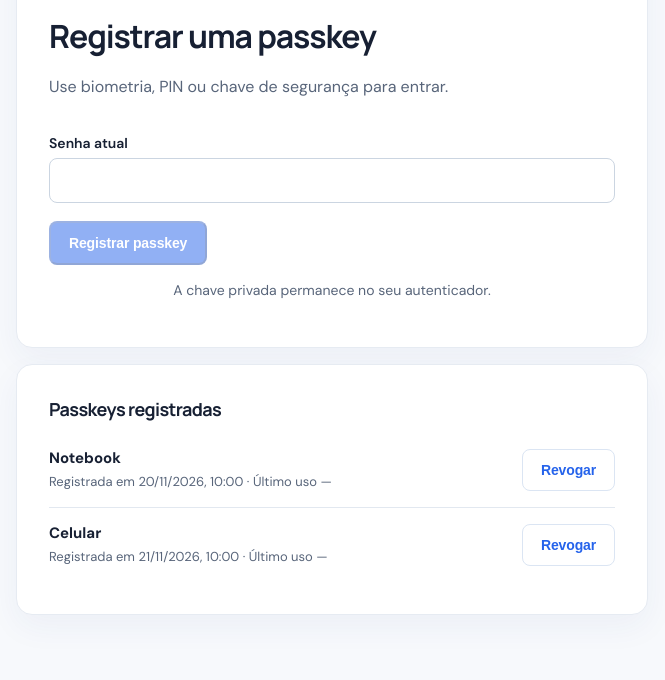
Test: lists passkeys and revokes only after confirmation
The width and height of the screenshot is (665, 680).
(page scrolled)
Check: the text "Notebook" is shown, box [49, 448, 121, 468]
What coordinates should you click on to do the following:
click the button "Revogar" in the row of "Notebook"
I would click on:
 (568, 470)
Its box is [522, 449, 615, 491].
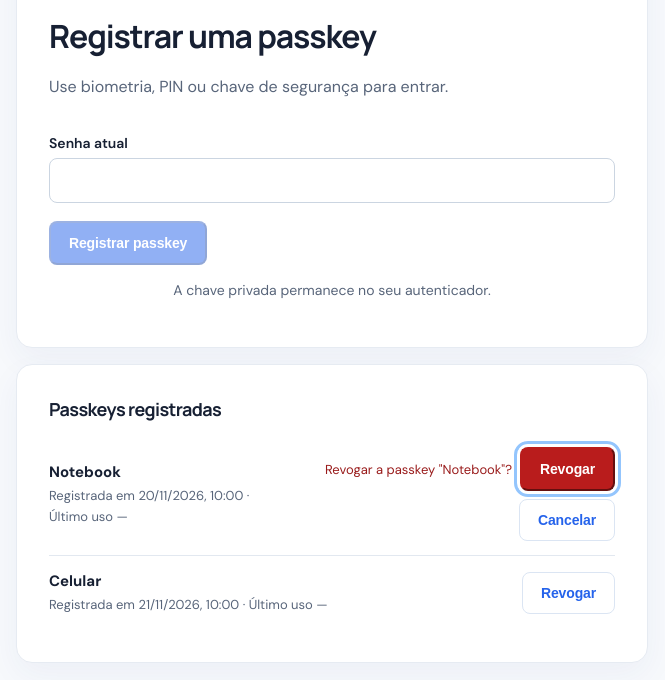
Check: the text "Revogar a passkey \"Notebook\"?" is shown, box [325, 461, 512, 478]
What coordinates should you click on to do the following:
click the button "Cancelar"
I would click on:
 (567, 520)
Its box is [519, 499, 615, 541].
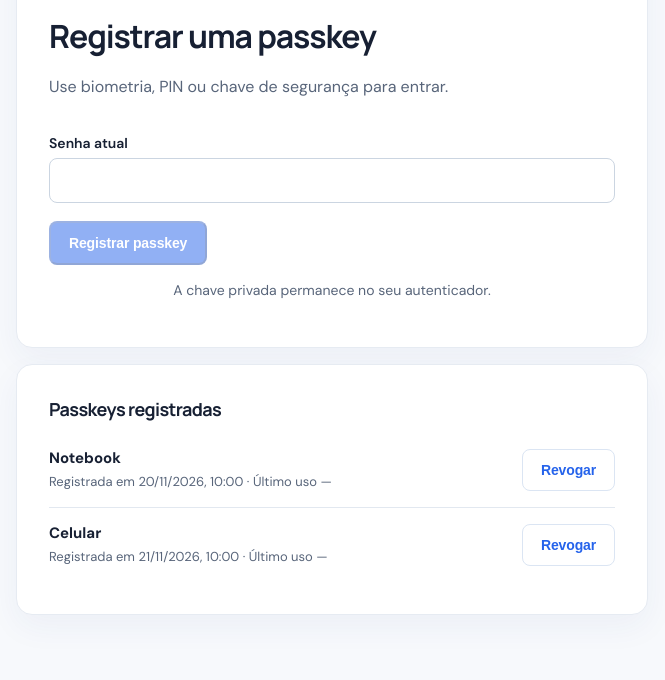
What coordinates should you click on to do the following:
click the button "Revogar" in the row of "Notebook"
I would click on:
 (568, 470)
Its box is [522, 449, 615, 491].
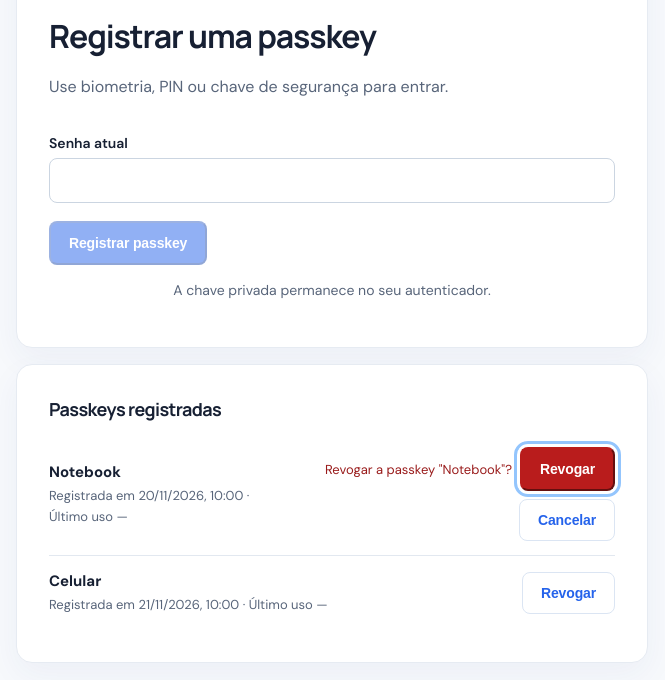
What coordinates should you click on to do the following:
click the button "Revogar" next to "Revogar a passkey \"Notebook\"?"
I would click on:
 (568, 469)
Its box is [520, 447, 615, 491].
(page scrolled)
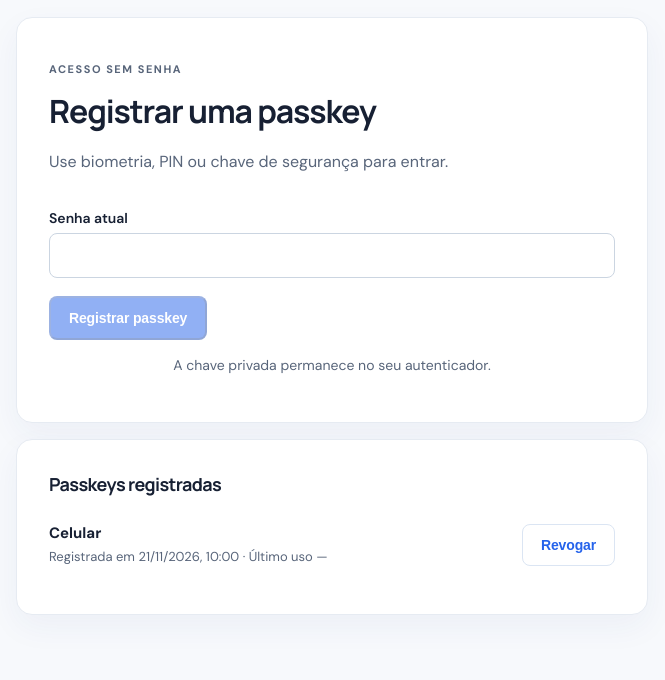
Check: the text "Notebook" is gone
